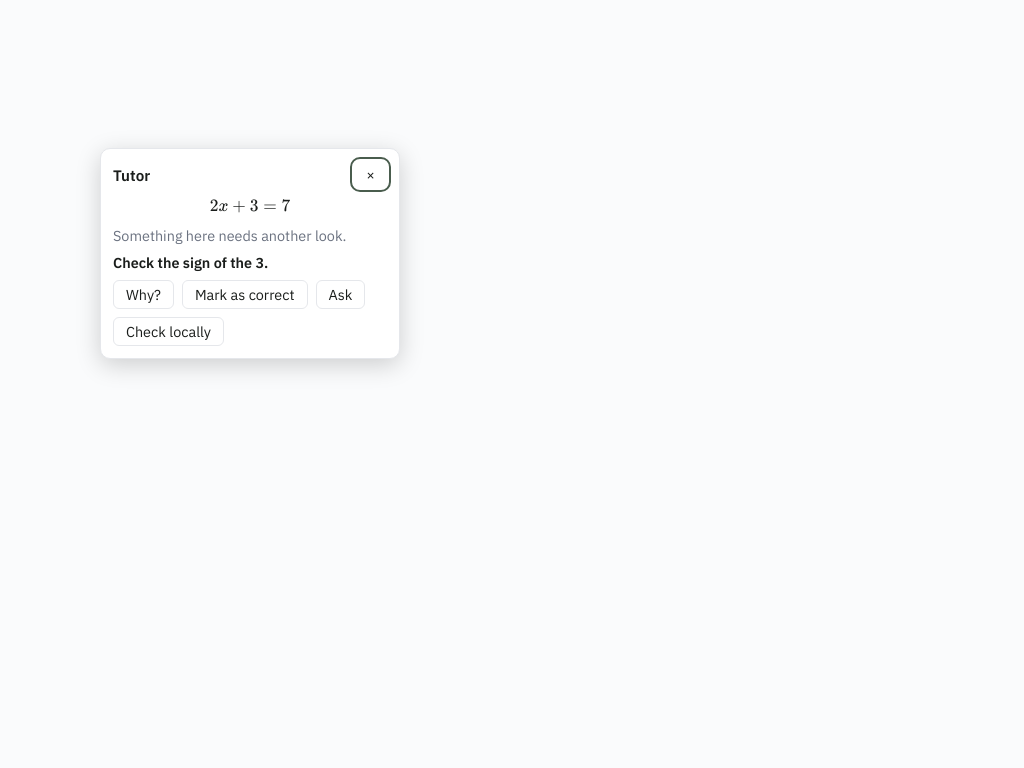
TutorCard › ask_submits_the_question_and_shows_the_answer
This screenshot has width=1024, height=768.
Click the button "Ask" at (340, 294), box 316,280 -> 365,309
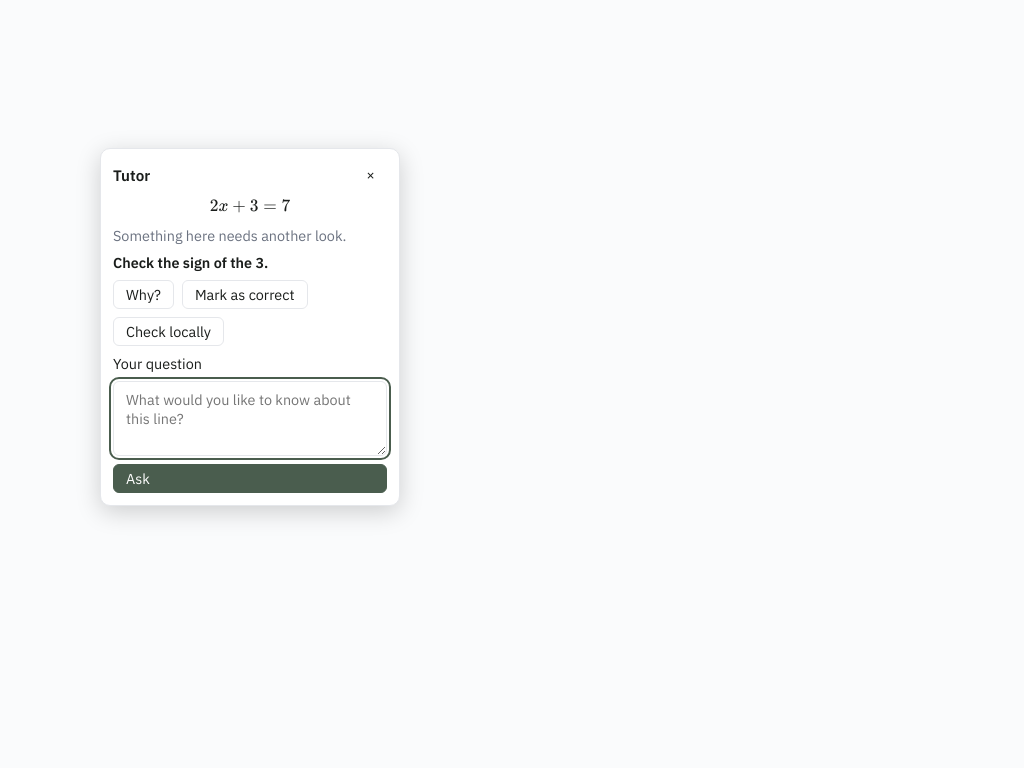
Type "  Why is it wrong?  " into the text box labelled "Your question" at (250, 418), box 113,381 -> 387,456
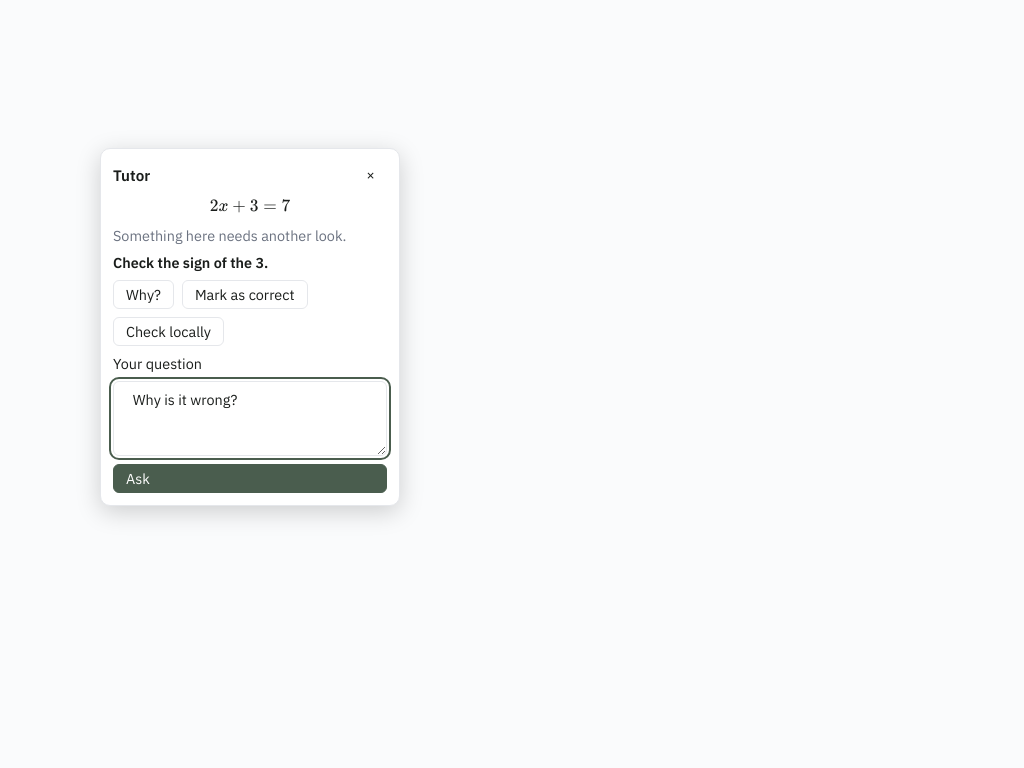
Submit the form labelled "Your question", box 113,354 -> 387,493
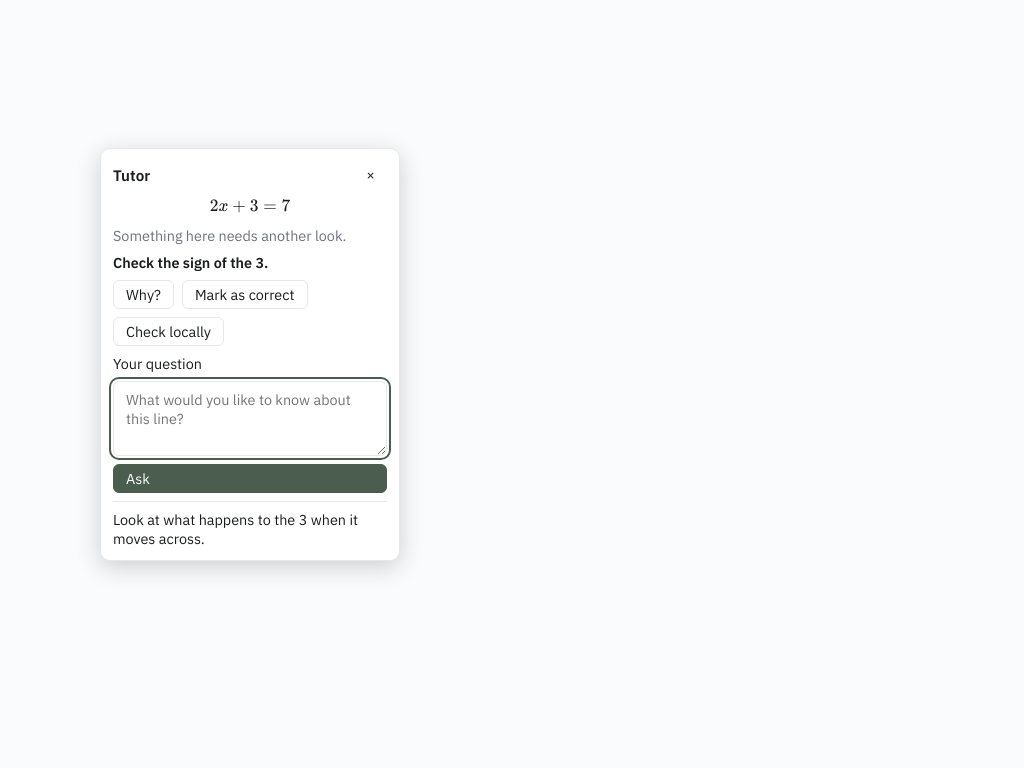
Now the text "Look at what happens to the 3 when it moves across." is shown, box 113,510 -> 387,548
